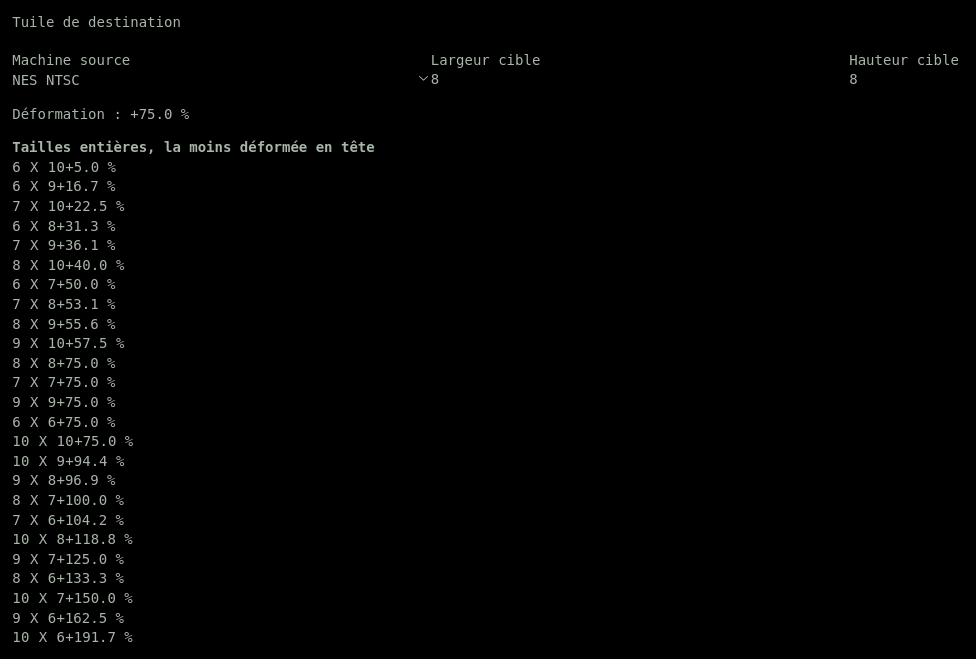
Scenario: TilesetGeometryPanel › cuts to a shortlisted size when it is picked
Click the button "6 x 10" at (39, 168), box [12,158,65,178]
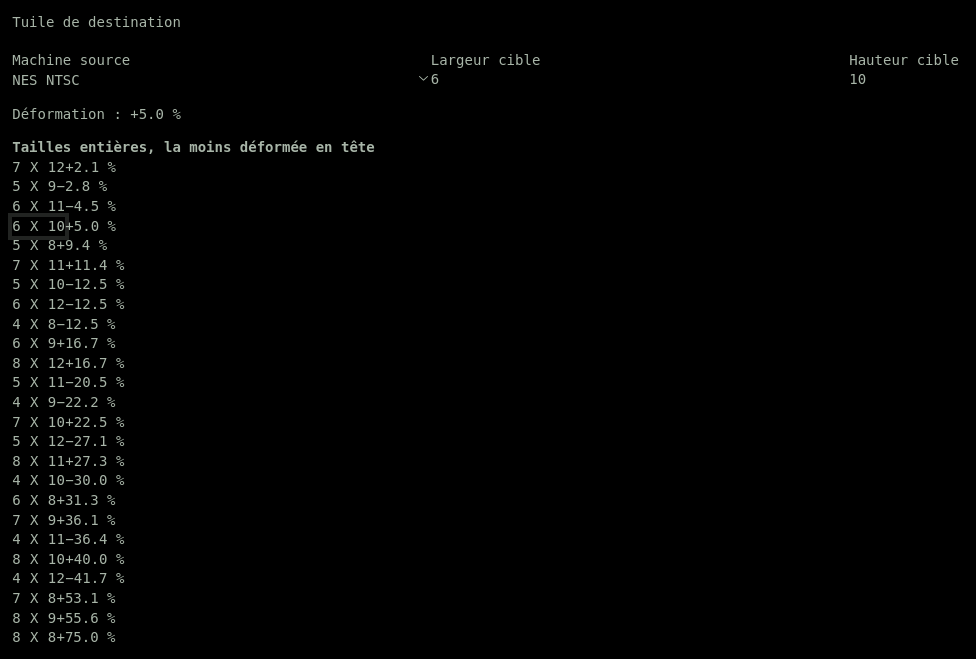
Expected: the number field labelled "Largeur cible" holds "6", [431,70,849,90]
